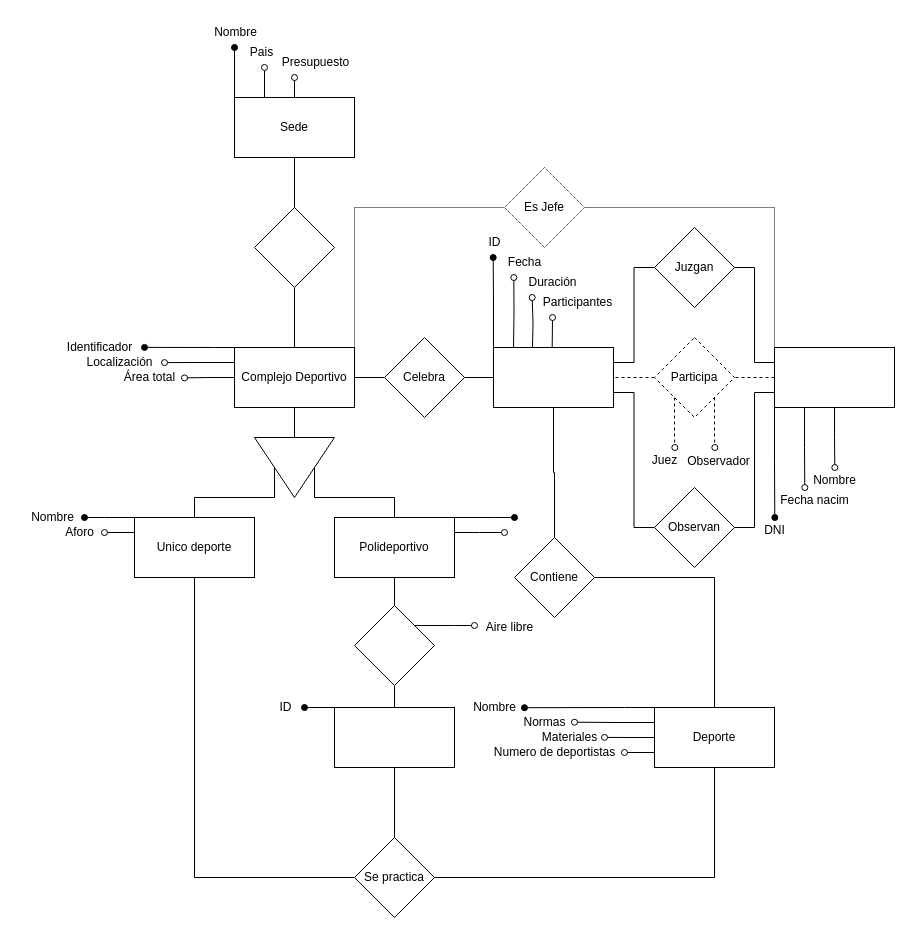
Some shapes in this 912 by 935 pixel diagram are drawn without their labels. Here are the shapes that lost their labels. From the top down, the centre of each, then its label:
At point 294,247: "Divide".
At point 553,377: "Eventos".
At point 834,377: "Comsiarios".
At point 294,467: "Desarrolla".
At point 394,645: "Dividen".
At point 394,737: "Areas".
